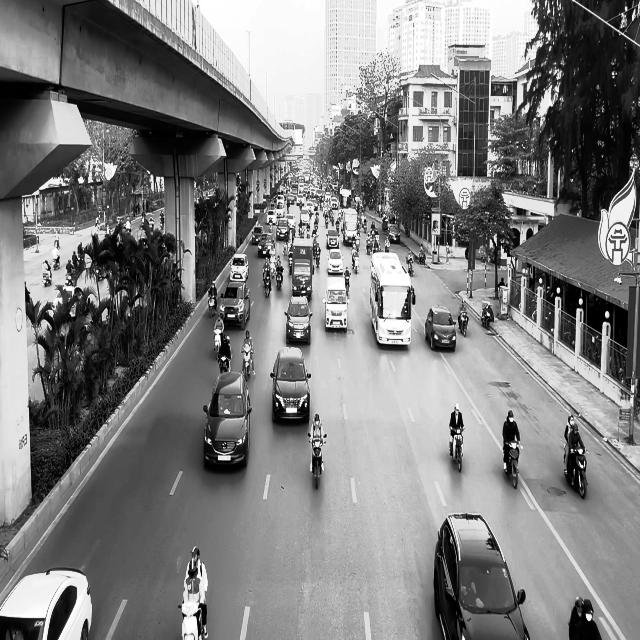car: (434, 512, 530, 639), (0, 567, 93, 640), (203, 371, 252, 468), (270, 346, 312, 423), (323, 276, 350, 333), (220, 280, 250, 330), (425, 305, 457, 351), (285, 296, 313, 344), (230, 253, 249, 282), (327, 249, 344, 274), (388, 224, 401, 244)
motorbike: (564, 443, 588, 499), (308, 432, 327, 489), (178, 602, 205, 640), (503, 440, 522, 488), (450, 426, 465, 472), (241, 346, 255, 381), (481, 302, 494, 329), (218, 351, 232, 374), (458, 311, 469, 337), (42, 261, 52, 286)
truck: (370, 251, 414, 347)
